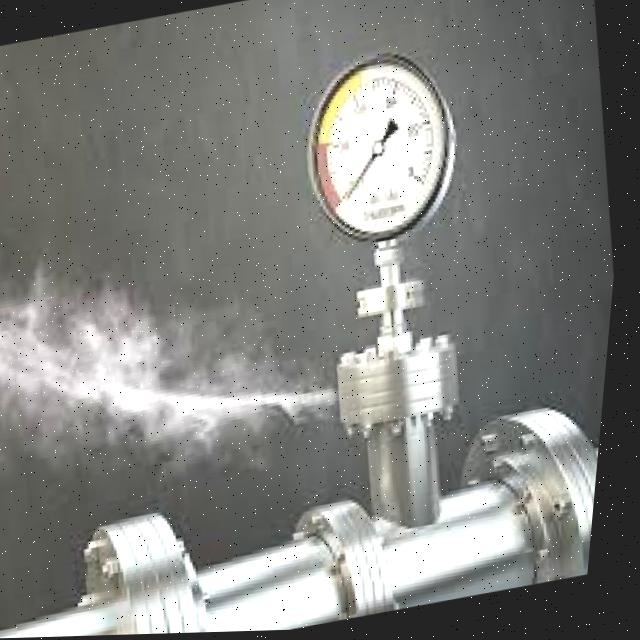corrosion: (258, 300, 420, 468)
